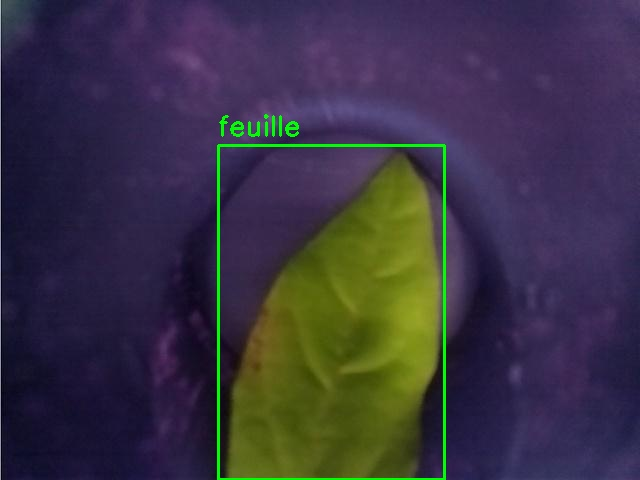feuille: (218, 145, 444, 479)
